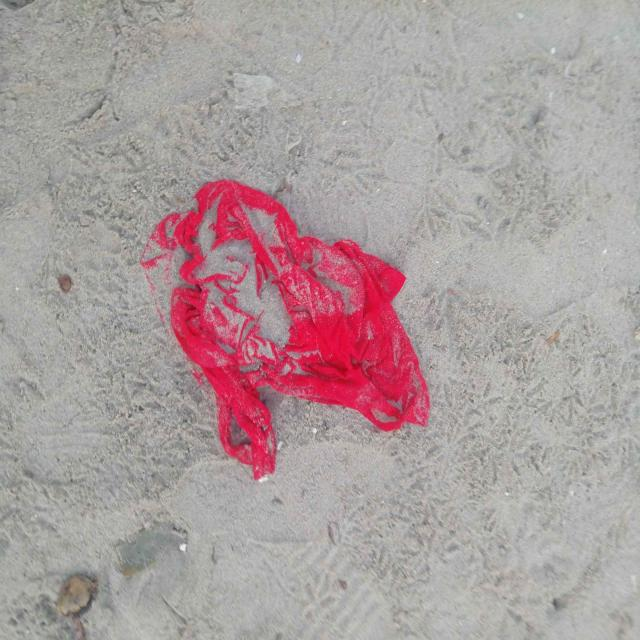vai_vun: (170, 181, 430, 479)
